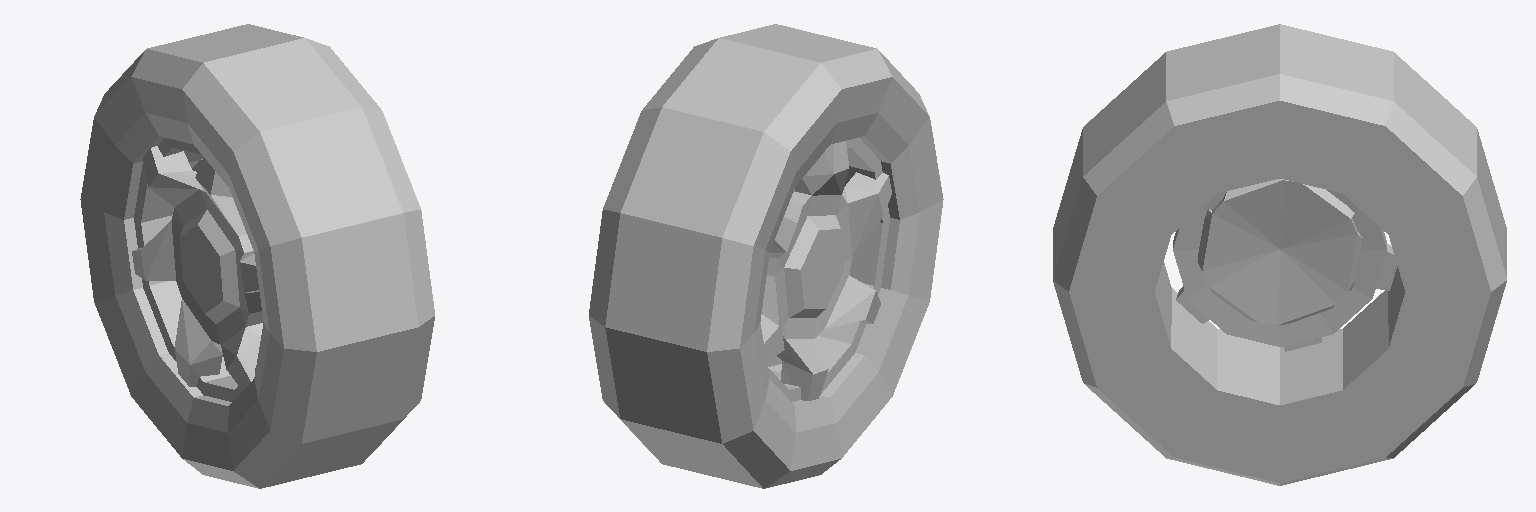
The model's file is van_wheel.obj.
3 renders of one model, left to right at view 1: azimuth 30°, elevation 25°; view 2: azimuth 150°, elevation 25°; view 3: azimuth 270°, elevation 25°, orthographic.
Parts seen in each view (by area): view 1: SM_Veh_Car_Van_Wheel_rr_Mesh.008; view 2: SM_Veh_Car_Van_Wheel_rr_Mesh.008; view 3: SM_Veh_Car_Van_Wheel_rr_Mesh.008.
Boxes of the visible parts, x1,y1,x2,y2 form: SM_Veh_Car_Van_Wheel_rr_Mesh.008: [80, 24, 434, 488]; SM_Veh_Car_Van_Wheel_rr_Mesh.008: [589, 24, 943, 488]; SM_Veh_Car_Van_Wheel_rr_Mesh.008: [1053, 24, 1506, 485].
Bounding box in the file's own units: 0.2978 × 0.7952 × 0.7952.